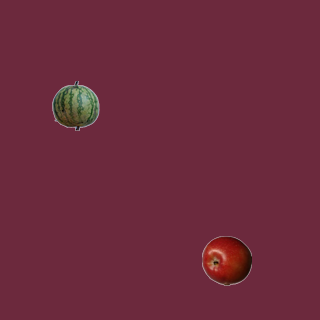Apple Braeburn: (201, 235, 251, 285)
Watermelon: (50, 80, 100, 130)
